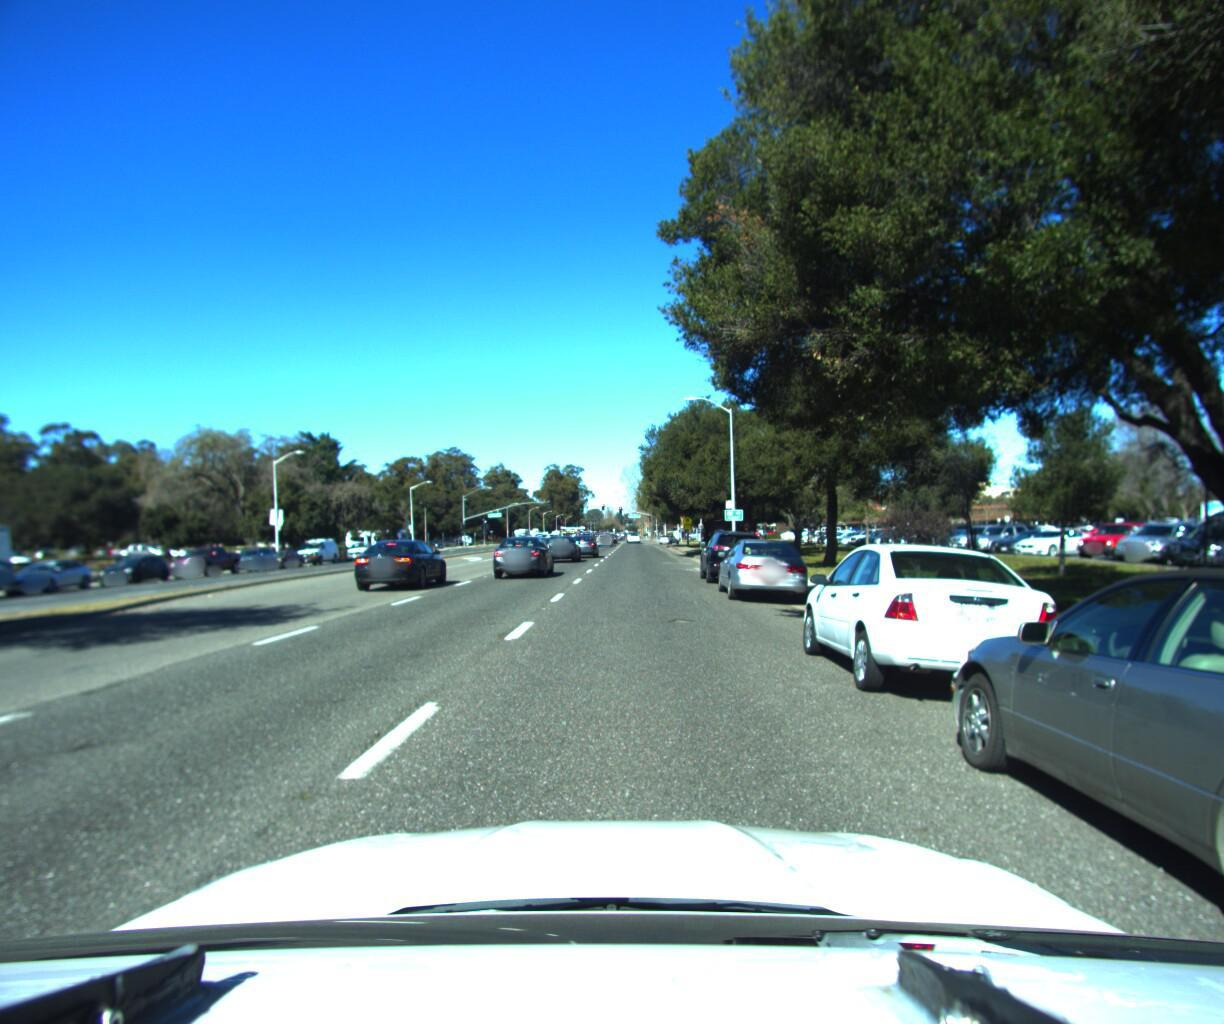car: (908, 546, 1224, 1024), (784, 537, 1074, 722), (711, 533, 812, 606), (350, 533, 453, 590), (0, 557, 101, 599), (695, 524, 767, 581), (91, 553, 174, 590), (164, 543, 243, 581), (485, 533, 551, 578), (221, 544, 279, 574), (538, 531, 583, 562), (340, 539, 381, 562), (565, 531, 599, 556)
other_vehicle: (0, 516, 24, 630), (288, 537, 338, 566)
